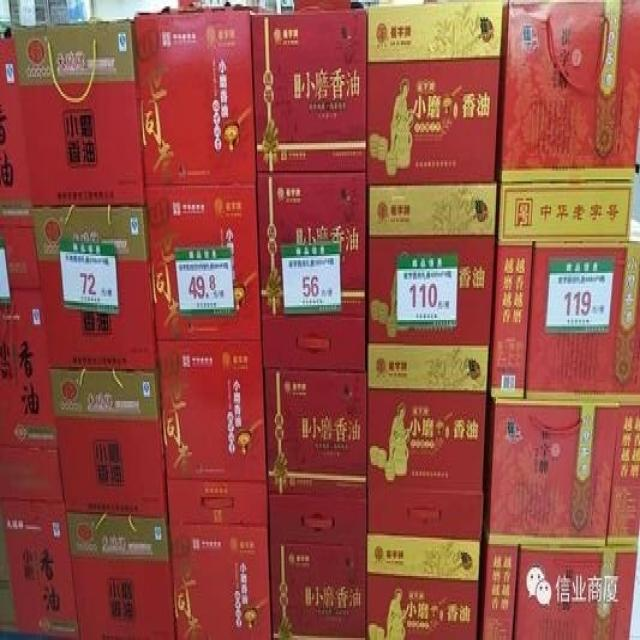box: (367, 179, 496, 395), (497, 0, 639, 181), (14, 19, 148, 207), (367, 0, 502, 183), (133, 4, 259, 186), (256, 171, 367, 371), (525, 215, 640, 403), (156, 341, 268, 527), (32, 205, 157, 369), (484, 399, 620, 548), (365, 390, 489, 542), (264, 369, 369, 546), (146, 183, 261, 341), (49, 367, 167, 516), (0, 448, 80, 638), (67, 512, 177, 638), (365, 531, 484, 638), (514, 546, 638, 640), (168, 527, 273, 638), (270, 544, 366, 640), (495, 181, 636, 243), (489, 243, 537, 399), (0, 21, 32, 213), (606, 403, 639, 550), (479, 542, 520, 640), (0, 514, 17, 631)
